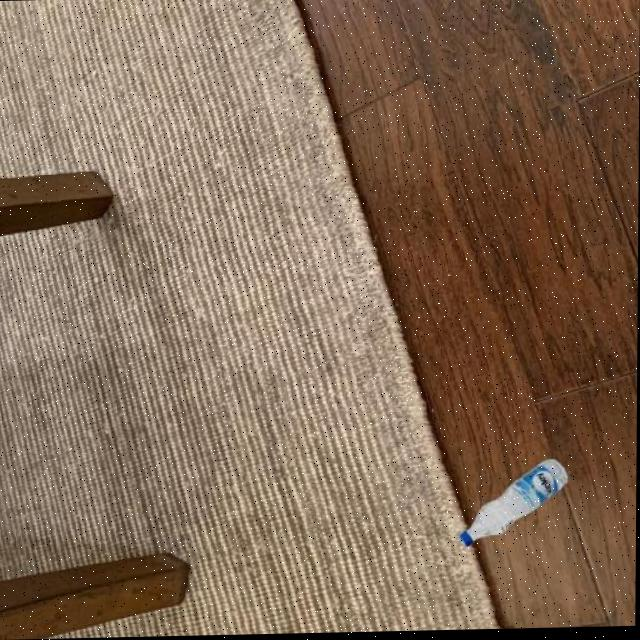bottle: (458, 460, 570, 551)
